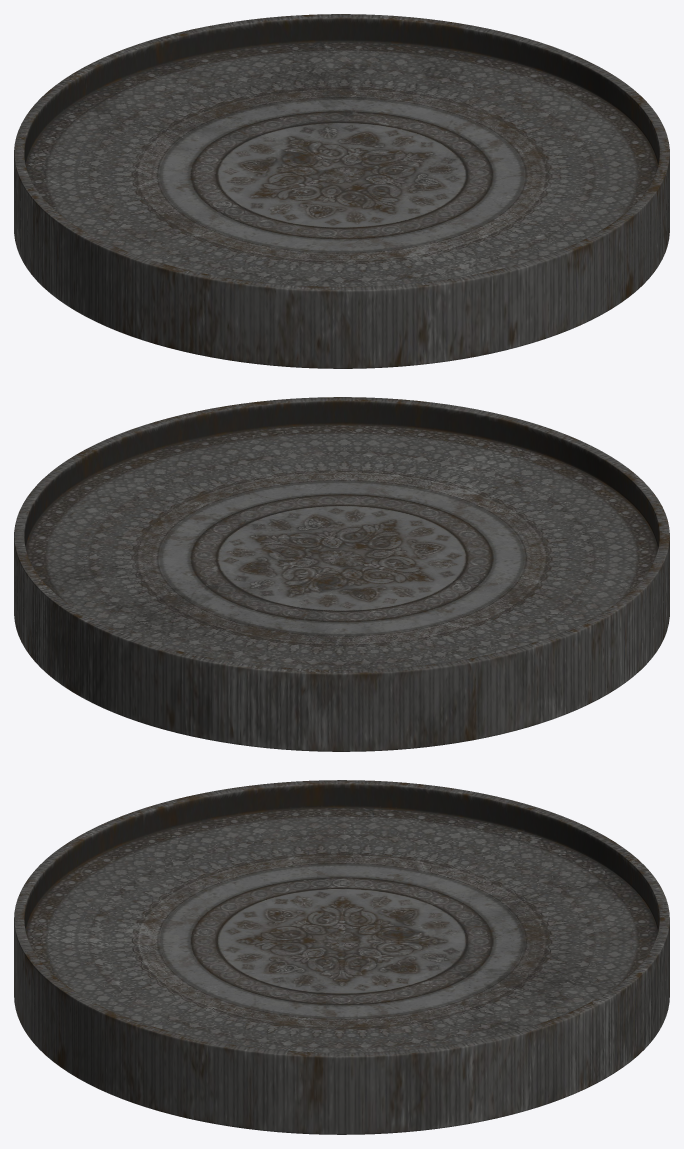
Rendered from Will_Token.glb.
The picture shows the model from 3 angles, top to bottom: view 1: azimuth 30°, elevation 25°; view 2: azimuth 150°, elevation 25°; view 3: azimuth 270°, elevation 25°; orthographic projection.
Visible parts, largest first — view 1: Silver Coin Ornamental; view 2: Silver Coin Ornamental; view 3: Silver Coin Ornamental.
Boxes of the visible parts, x1,y1,x2,y2 form: Silver Coin Ornamental: (14, 14, 669, 368); Silver Coin Ornamental: (14, 397, 669, 751); Silver Coin Ornamental: (14, 780, 669, 1134).
Bounding box in the file's own units: 0.0344 × 0.00451 × 0.0344.
1 material, 1 textured.
